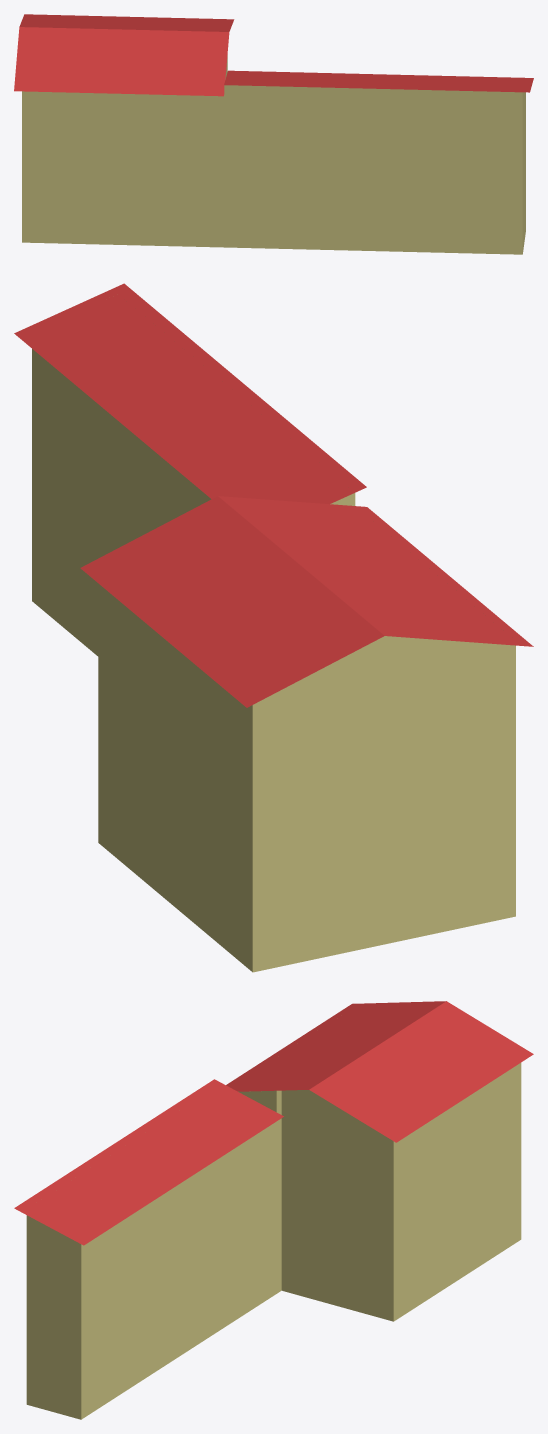
3 renders of one model, top to bottom at view 1: azimuth 30°, elevation 25°; view 2: azimuth 150°, elevation 25°; view 3: azimuth 270°, elevation 25°, orthographic. The views are drawn at different scales.
Visible parts, largest first — view 1: group_9, group_5, group_3, group_7, group_4, group_8; view 2: group_5, group_3, group_7, group_9, group_8, group_4; view 3: group_5, group_9, group_3, group_7, group_8, group_4.
Boxes of the visible parts, x1,y1,x2,y2 form: group_9: (224,85,525,254); group_5: (22,55,227,247); group_3: (19,14,234,96); group_7: (224,70,533,92); group_4: (14,27,222,91); group_8: (234,83,529,92); group_5: (98,583,515,972); group_3: (80,496,529,707); group_7: (14,284,366,504); group_9: (32,349,355,656); group_8: (81,283,366,491); group_4: (219,497,533,646); group_5: (238,1063,521,1321); group_9: (26,1121,276,1419); group_3: (226,1001,533,1142); group_7: (16,1079,283,1245); group_8: (14,1086,216,1241); group_4: (230,1001,446,1088).
Bounding box in the file's own units: 15.37 × 14.24 × 6.44.
